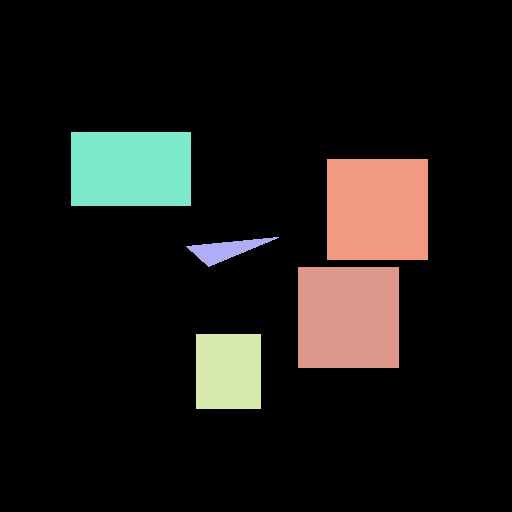rectangle: (71, 132, 190, 205), (196, 334, 260, 408)
square: (298, 267, 398, 367), (327, 159, 427, 259)
triangle: (186, 237, 278, 266)
